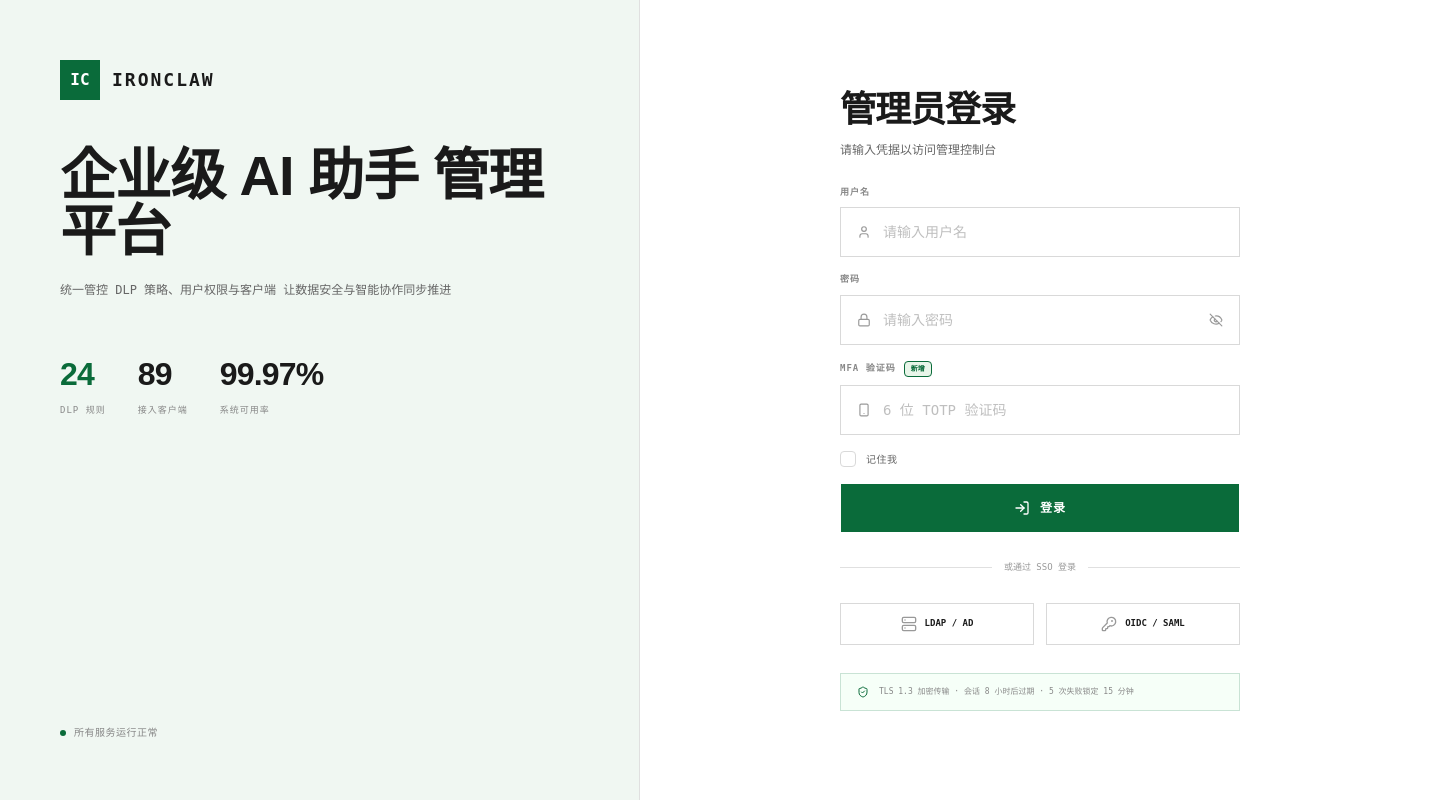
Test: 认证登录 › 失败路径 › 空用户名提交应显示错误
The width and height of the screenshot is (1440, 800).
In the password field with placeholder "请输入密码": x=1046, y=320 [883, 310, 1209, 330], type "password"
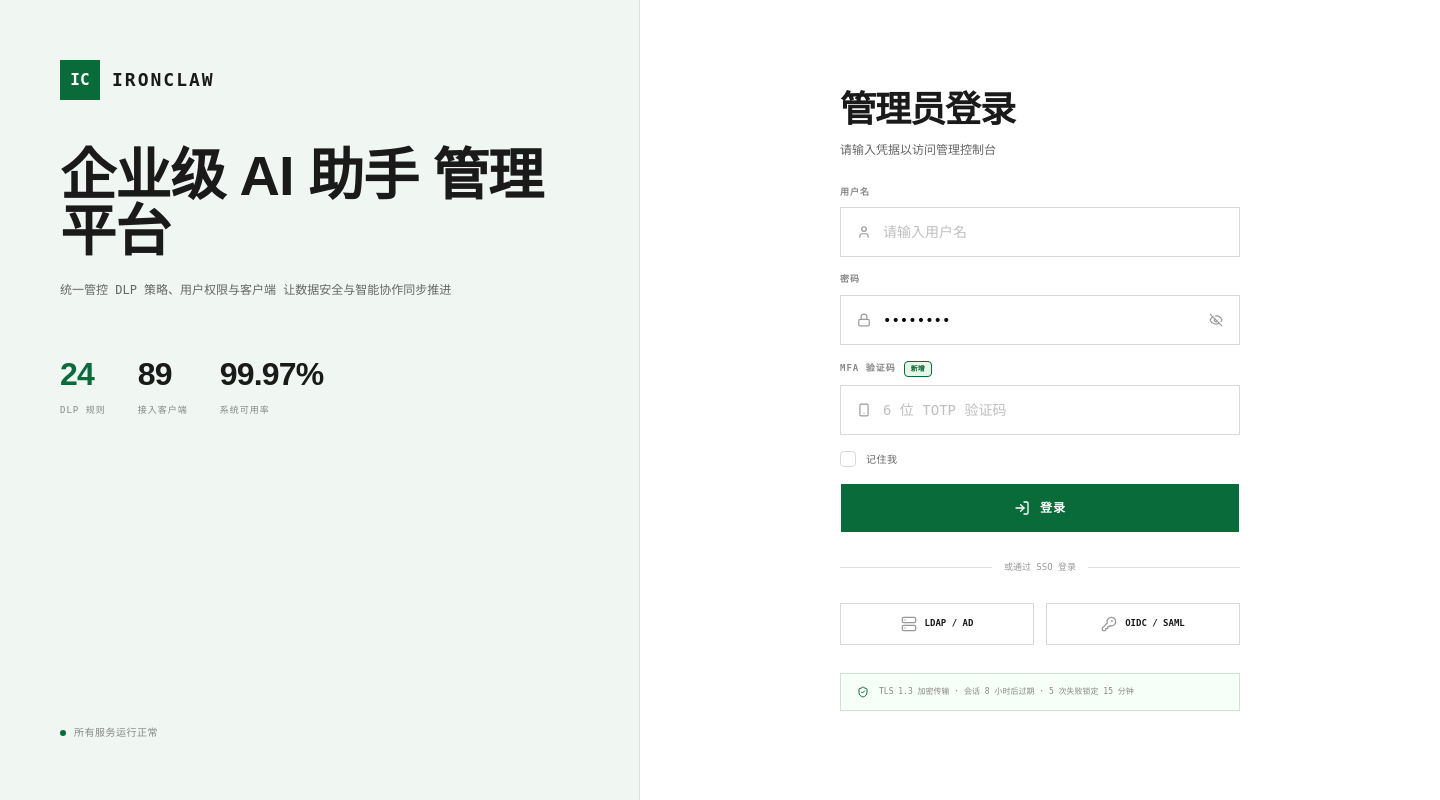
Click the submit button: x=1040, y=508 [840, 483, 1240, 533]
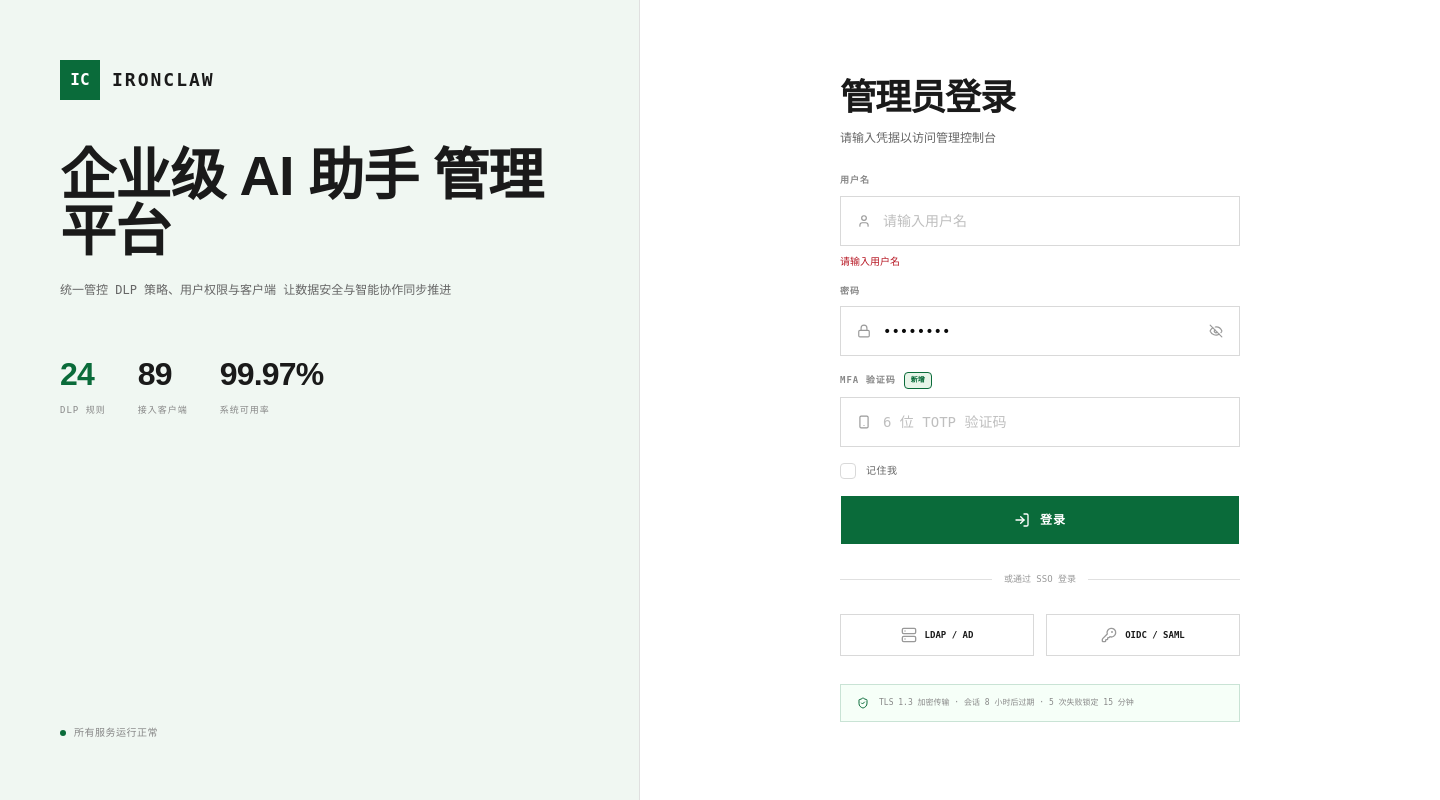
Now the text "请输入用户名" is shown, box [840, 256, 900, 266]
